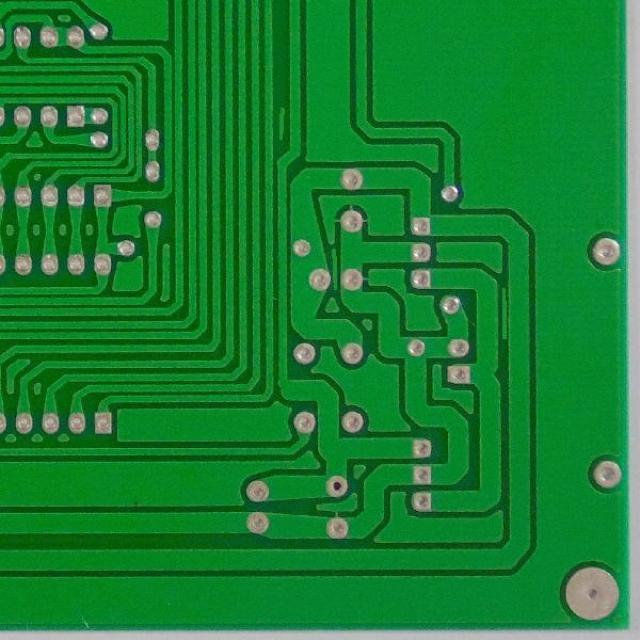Missing_Hole: (325, 474, 348, 499)
Spurious_Cooper: (498, 281, 510, 345), (328, 244, 341, 293), (274, 103, 288, 142)
